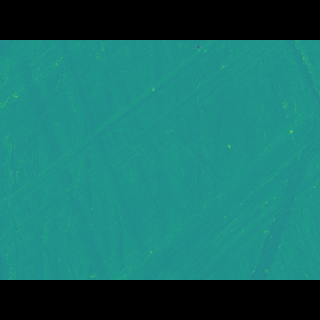Loch: (0, 69, 283, 226), (111, 121, 320, 249)
